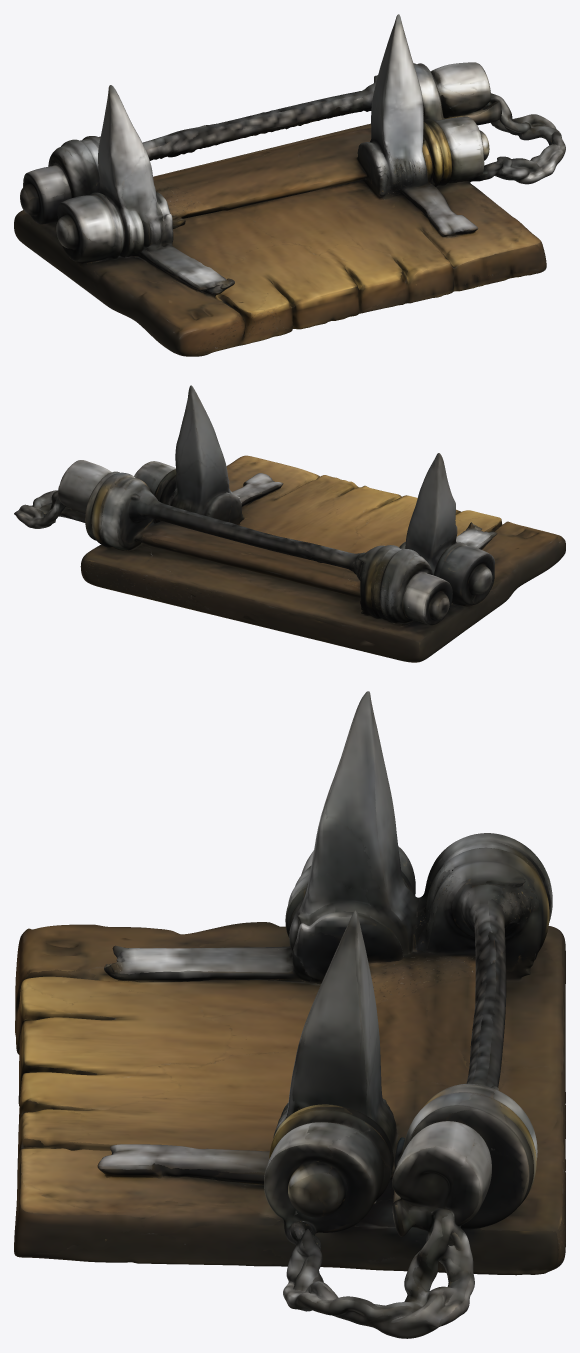
File: trap_trigger.glb
3 renders of one model, top to bottom at view 1: azimuth 30°, elevation 25°; view 2: azimuth 150°, elevation 25°; view 3: azimuth 270°, elevation 25°, orthographic. The views are drawn at different scales.
Parts seen in each view (by area): view 1: material; view 2: material; view 3: material.
Boxes of the visible parts, bbox=[...] form: material: bbox=[14, 14, 565, 356]; material: bbox=[14, 385, 565, 662]; material: bbox=[14, 691, 565, 1338].
Size of the model in its own units: 1.06 by 0.3797 by 0.6022.
Materials: 1 (1 with a texture image).
